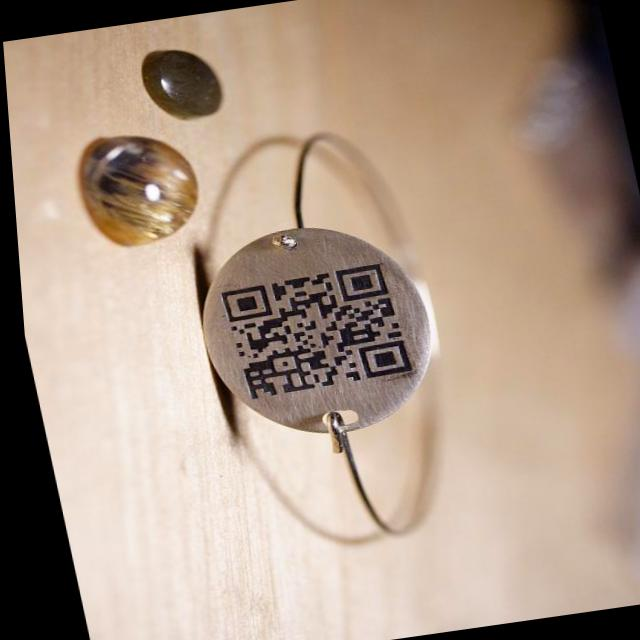qrcode: (215, 264, 408, 401)
